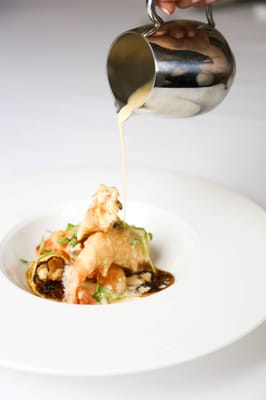soup: (106, 0, 238, 121)
